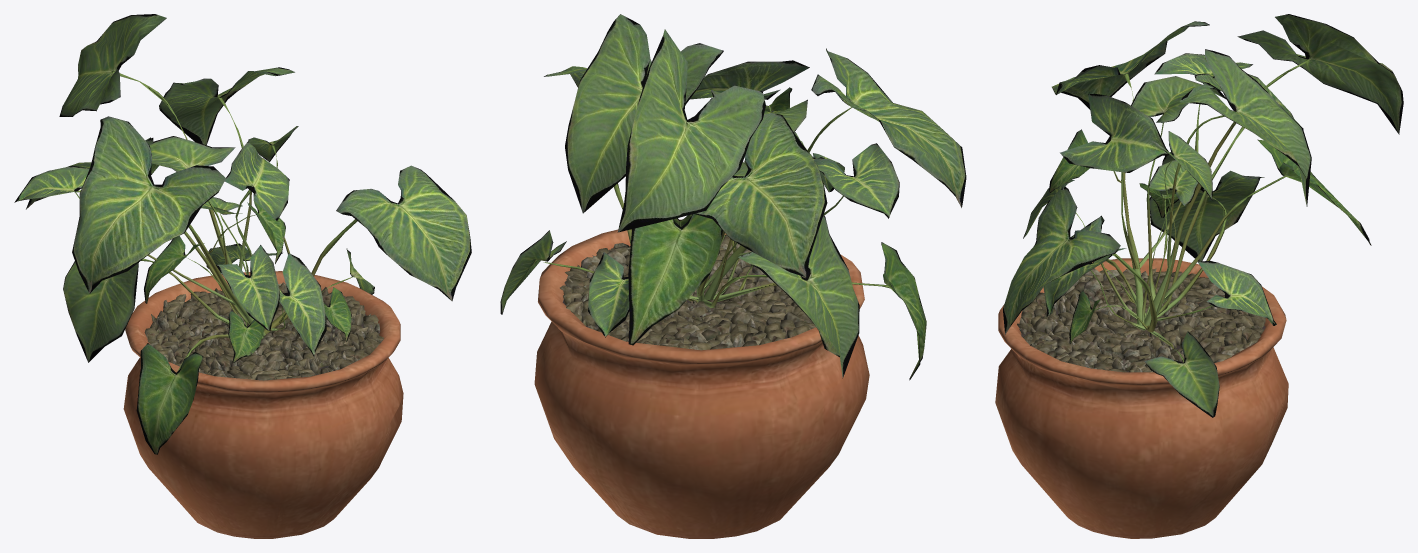
Rendered from potted_plant_02.glb.
3 renders of one model, left to right at view 1: azimuth 30°, elevation 25°; view 2: azimuth 150°, elevation 25°; view 3: azimuth 270°, elevation 25°, orthographic. The views are drawn at different scales.
Visible parts, largest first — view 1: potted_plant_02_leaves, potted_plant_02_pot, potted_plant_02_dirt; view 2: potted_plant_02_leaves, potted_plant_02_pot, potted_plant_02_dirt; view 3: potted_plant_02_leaves, potted_plant_02_pot, potted_plant_02_dirt.
Part boxes in pixels (x1,y1,x2,y2): potted_plant_02_leaves: (14,14,471,454); potted_plant_02_pot: (123,271,403,538); potted_plant_02_dirt: (144,282,383,380); potted_plant_02_leaves: (500,14,966,380); potted_plant_02_pot: (534,219,869,538); potted_plant_02_dirt: (560,235,815,350); potted_plant_02_leaves: (1003,14,1403,417); potted_plant_02_pot: (995,258,1288,538); potted_plant_02_dirt: (1017,268,1265,372).
Bounding box in the file's own units: 0.6989 × 0.8378 × 0.6553.
2 materials, 2 textured.
